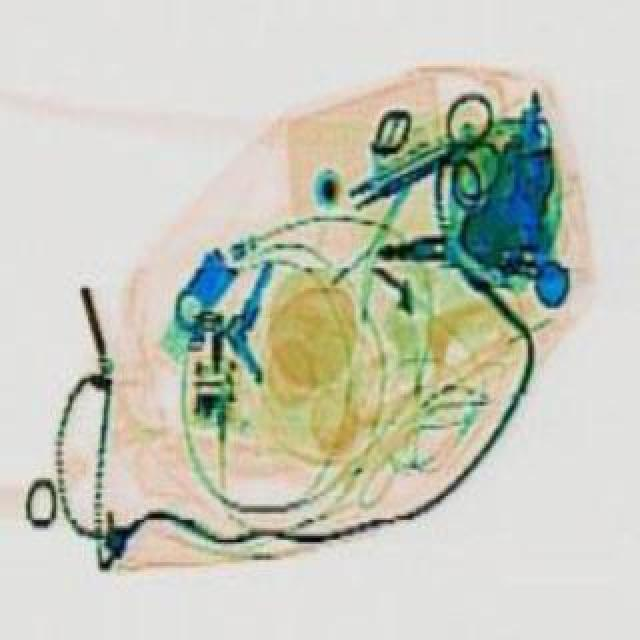pliers: (326, 94, 526, 250)
